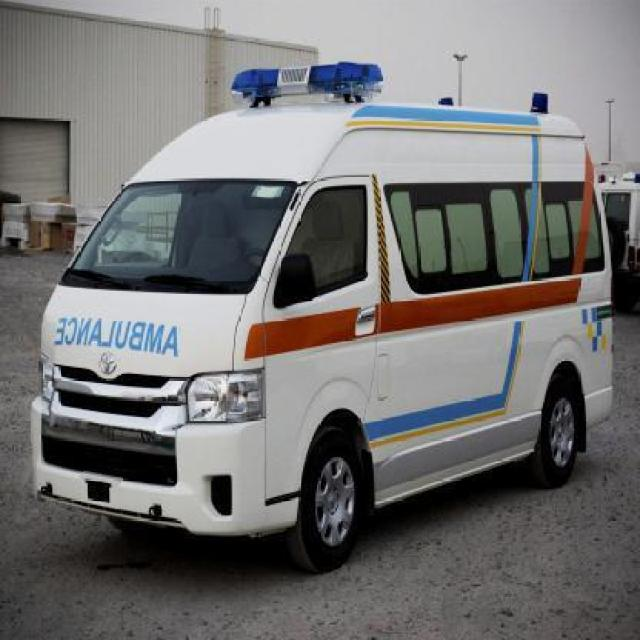Ambulance: (51, 69, 612, 559)
